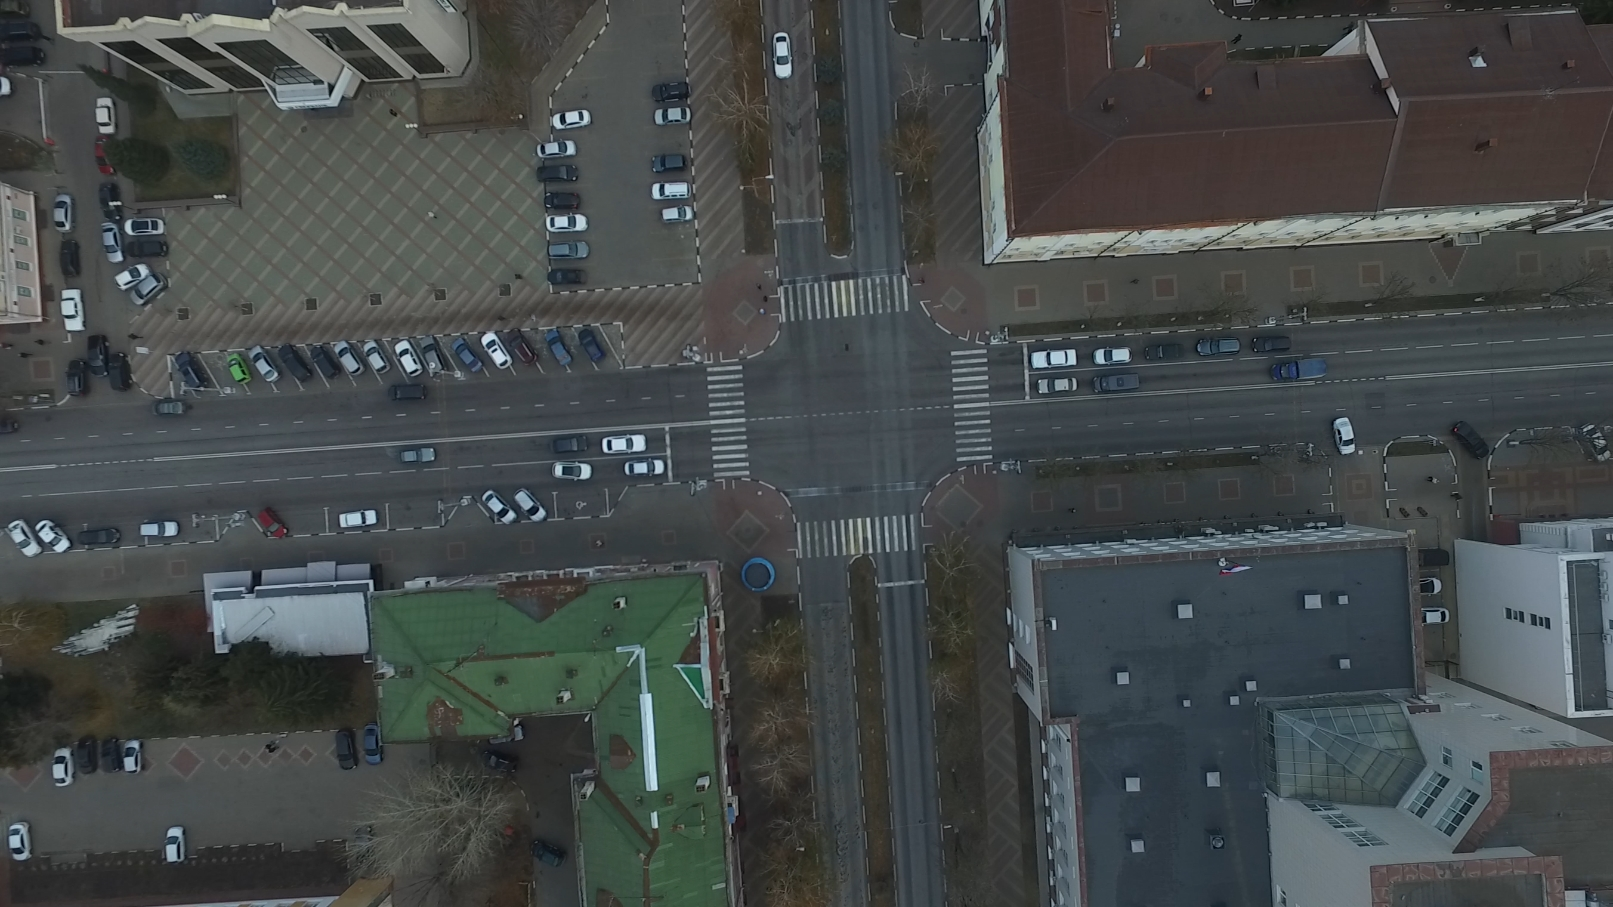car: (169, 350, 210, 392), (1453, 418, 1490, 460), (1268, 355, 1326, 382), (479, 486, 520, 523), (277, 343, 312, 385), (7, 516, 41, 559), (244, 342, 280, 382), (56, 288, 88, 334), (328, 340, 363, 380), (125, 274, 167, 307), (1575, 421, 1609, 463), (502, 328, 537, 365), (37, 519, 72, 557), (47, 745, 75, 791), (449, 337, 483, 374), (530, 838, 569, 870), (4, 820, 35, 860), (477, 332, 511, 370), (418, 334, 446, 378), (477, 748, 517, 779), (347, 824, 374, 868), (543, 328, 573, 369), (66, 733, 96, 773), (119, 738, 147, 779), (512, 487, 546, 522), (125, 233, 169, 259), (101, 224, 127, 267), (50, 192, 78, 233), (361, 340, 392, 377), (161, 825, 187, 867), (107, 351, 133, 394), (93, 134, 119, 177), (309, 344, 340, 380), (85, 332, 110, 377), (771, 31, 793, 80), (1331, 416, 1358, 455), (97, 183, 123, 224), (257, 506, 288, 539), (113, 261, 148, 290), (2, 44, 48, 66), (332, 729, 356, 772), (360, 722, 383, 765), (395, 339, 422, 377), (93, 96, 120, 134), (576, 327, 605, 361), (122, 214, 166, 236), (1383, 414, 1427, 436), (224, 349, 249, 386), (1029, 350, 1080, 369), (545, 212, 590, 233), (64, 359, 88, 400), (548, 432, 590, 454), (386, 381, 429, 402), (602, 434, 649, 453), (651, 104, 694, 125), (337, 506, 377, 528), (75, 527, 122, 546), (535, 164, 582, 183), (547, 241, 590, 261), (549, 461, 593, 481), (651, 79, 690, 101), (99, 735, 122, 772), (1092, 373, 1140, 391), (537, 140, 579, 159), (1196, 337, 1239, 357), (651, 153, 689, 175), (623, 458, 667, 477), (653, 181, 694, 200), (1144, 343, 1185, 363), (151, 396, 191, 416), (552, 109, 590, 128), (545, 267, 588, 285), (136, 521, 179, 538), (1090, 346, 1133, 363), (658, 203, 696, 223), (544, 190, 584, 209), (59, 240, 79, 278), (1034, 377, 1078, 393), (1417, 546, 1448, 567), (1252, 337, 1294, 352), (398, 447, 436, 464), (1421, 608, 1452, 625), (1, 416, 21, 434), (1418, 578, 1442, 592)
